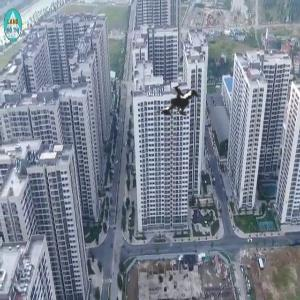drone: (112, 36, 228, 152)
